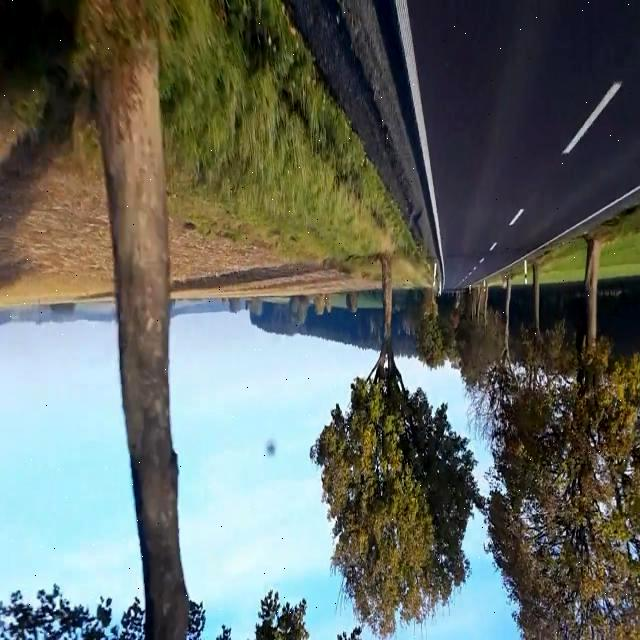lane: (486, 186, 638, 278), (395, 1, 444, 281), (563, 81, 622, 154), (509, 209, 524, 226)
road: (287, 1, 640, 289), (409, 1, 640, 289)
